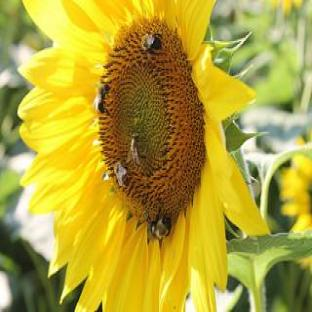sunflower: (17, 0, 270, 312)
